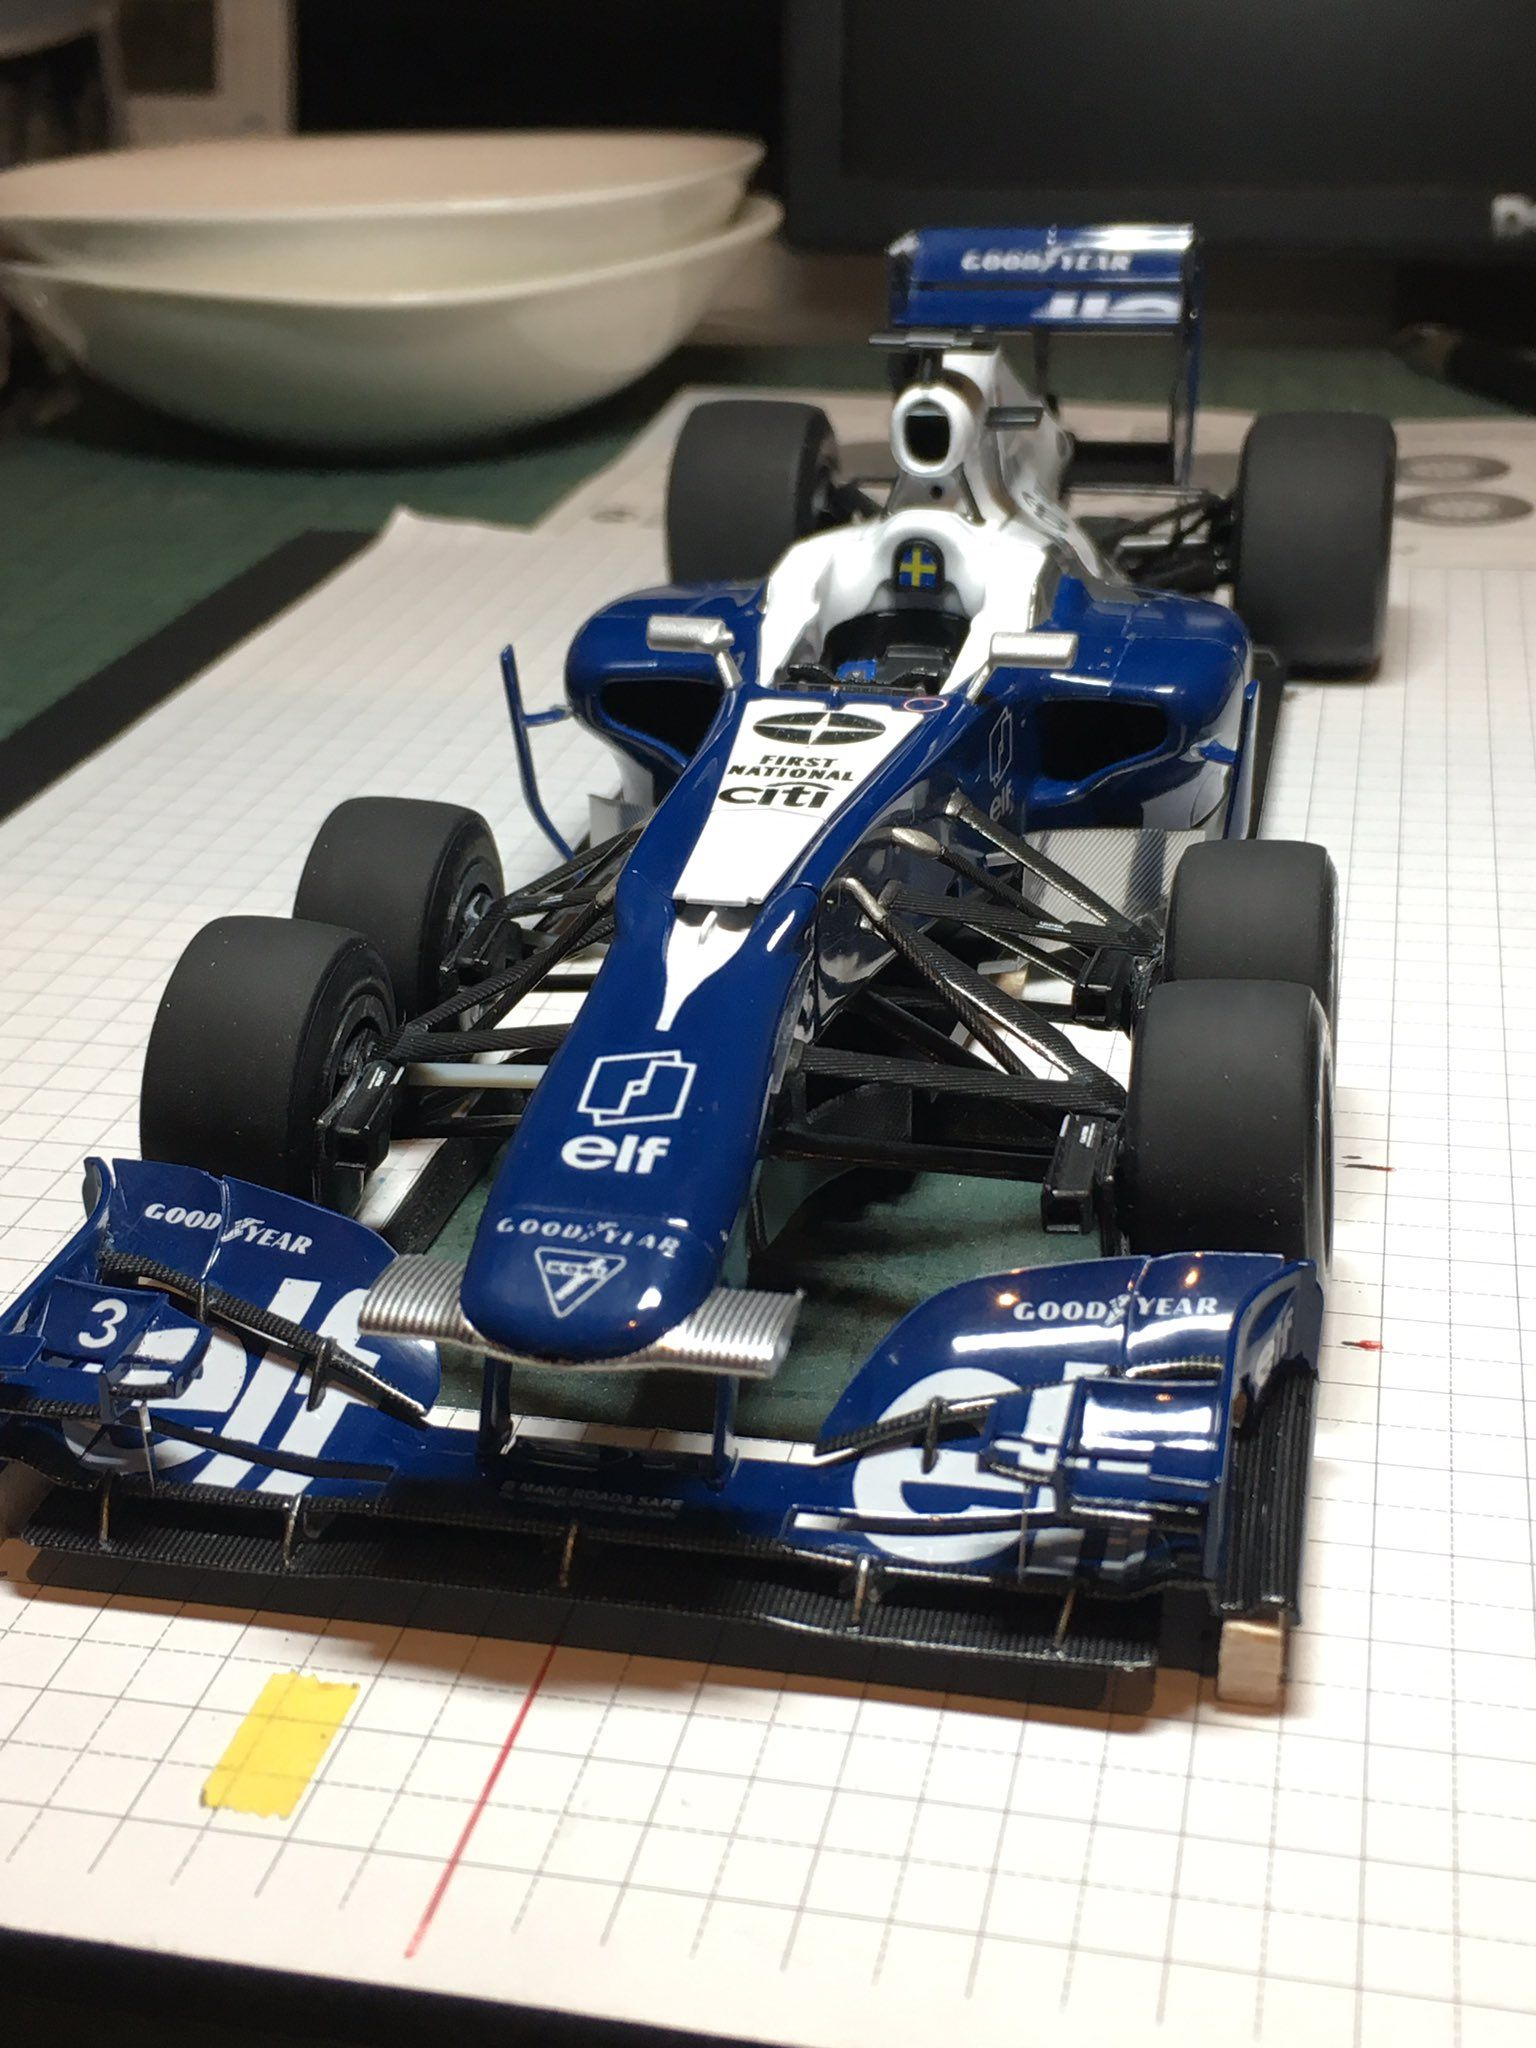f1_car: (3, 174, 1438, 1809)
